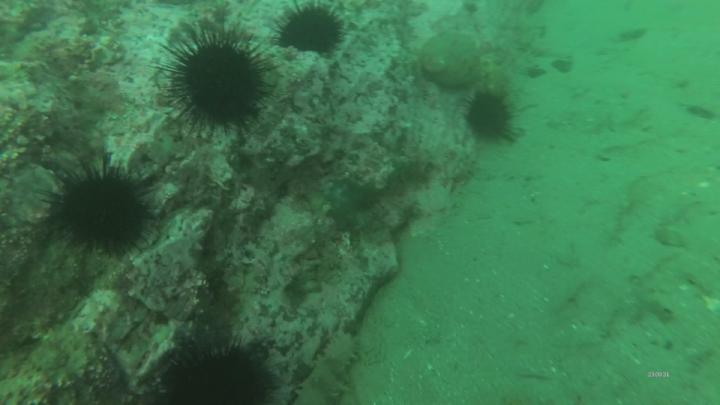echinus: (183, 46, 265, 125), (62, 175, 146, 249), (165, 350, 270, 405), (281, 7, 345, 50), (470, 93, 511, 142)
